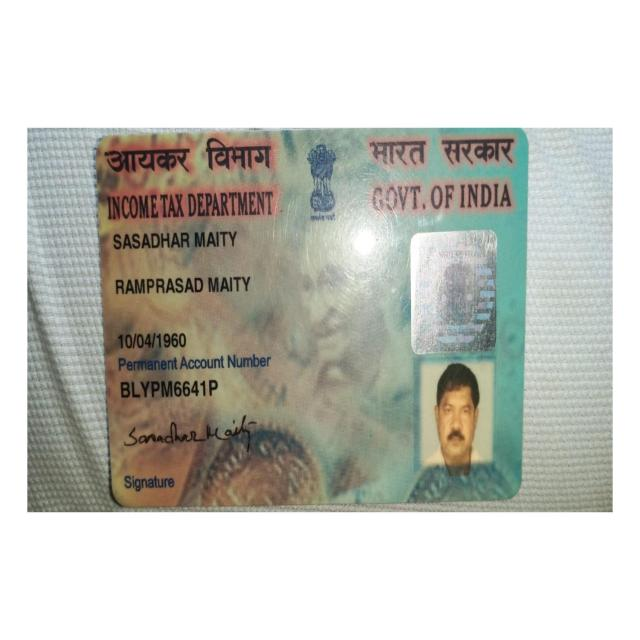pan_card: (96, 129, 524, 504)
